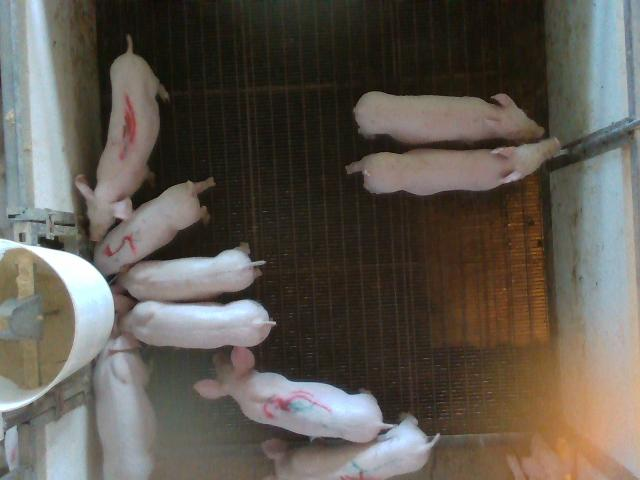pig-1: (75, 35, 169, 241)
pig-3: (194, 346, 392, 442)
pig-5: (94, 179, 214, 276)
